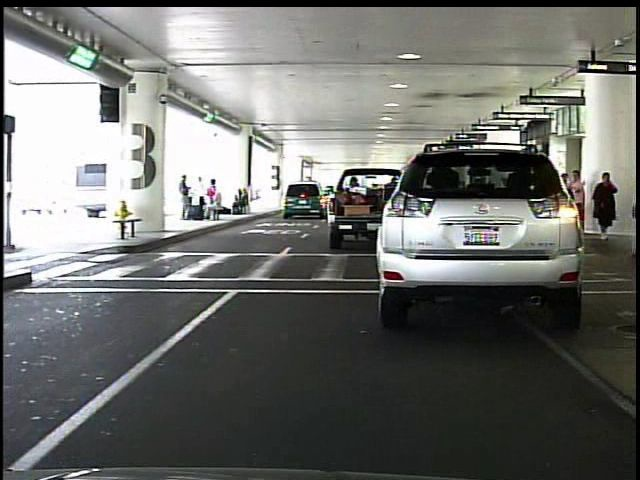person: (589, 166, 618, 241), (567, 168, 589, 239), (175, 172, 195, 224)
